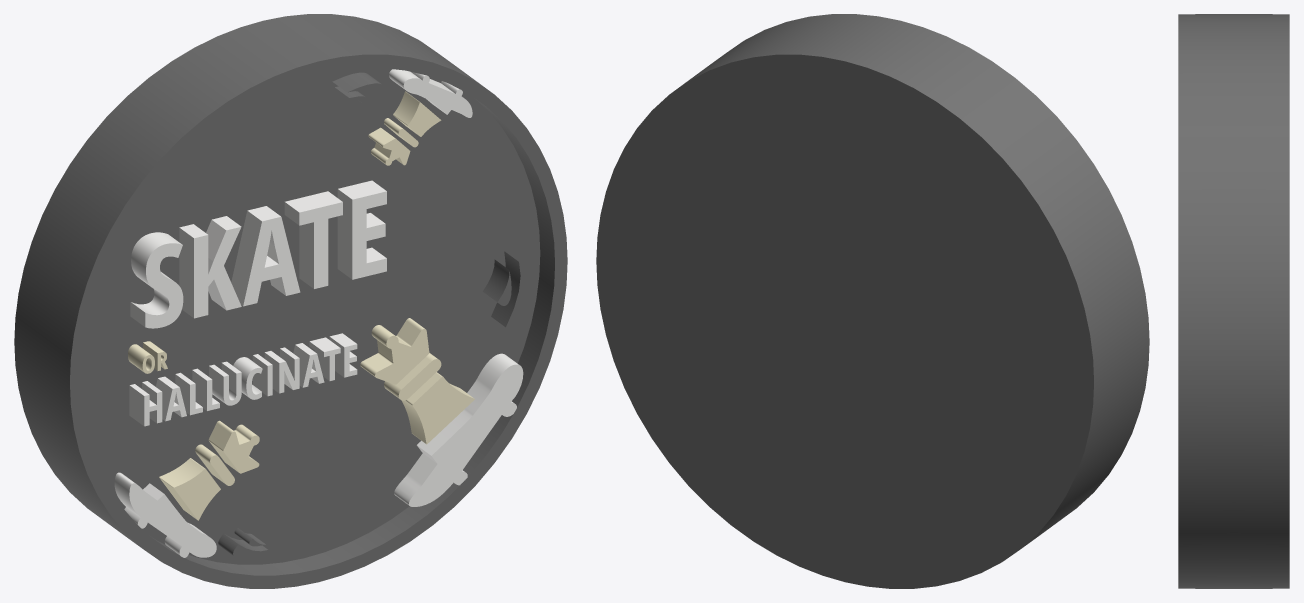
Rendered from coa_5.gltf.
3 views of the same model, side by side, from view 1: azimuth 30°, elevation 25°; view 2: azimuth 150°, elevation 25°; view 3: azimuth 270°, elevation 25° (orthographic).
Visible parts, largest first — view 1: Body1, Body2, Body9, Body18, Body10, Body26, Body11, Body19, Body4, Body3, Body24, Body30 (+14 smaller); view 2: Body1; view 3: Body1.
Boxes of the visible parts, x1,y1,x2,y2 form: Body1: (14,14,567,588); Body2: (394,353,523,506); Body9: (179,216,241,318); Body18: (231,206,300,306); Body10: (337,180,386,279); Body26: (114,472,216,557); Body11: (130,232,183,328); Body19: (284,191,342,288); Body4: (401,372,474,444); Body3: (360,318,429,384); Body24: (159,458,220,520); Body30: (389,69,472,117); Body1: (596,14,1149,588); Body1: (1178,14,1289,588).
Size of the model in its own units: 3.88 by 3.88 by 0.75.
